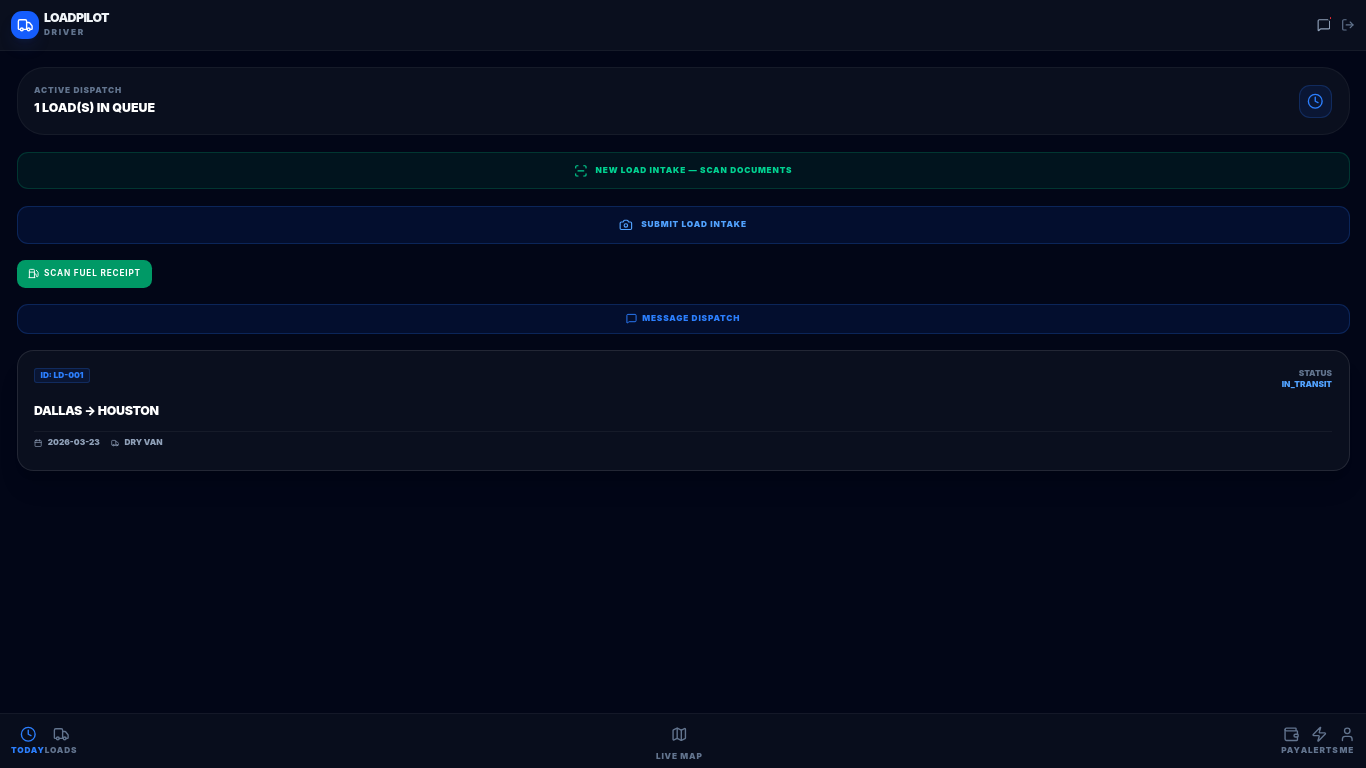
DriverMobileHome - Change Requests (R-P6-10, R-P6-11) › R-P6-11: change request list renders from GET API with status badges
Expected: the text "Alerts" is shown, [1301,745,1338,756]
Click the button "Alerts". click: x=1320, y=741
box: [1301,726,1338,756]
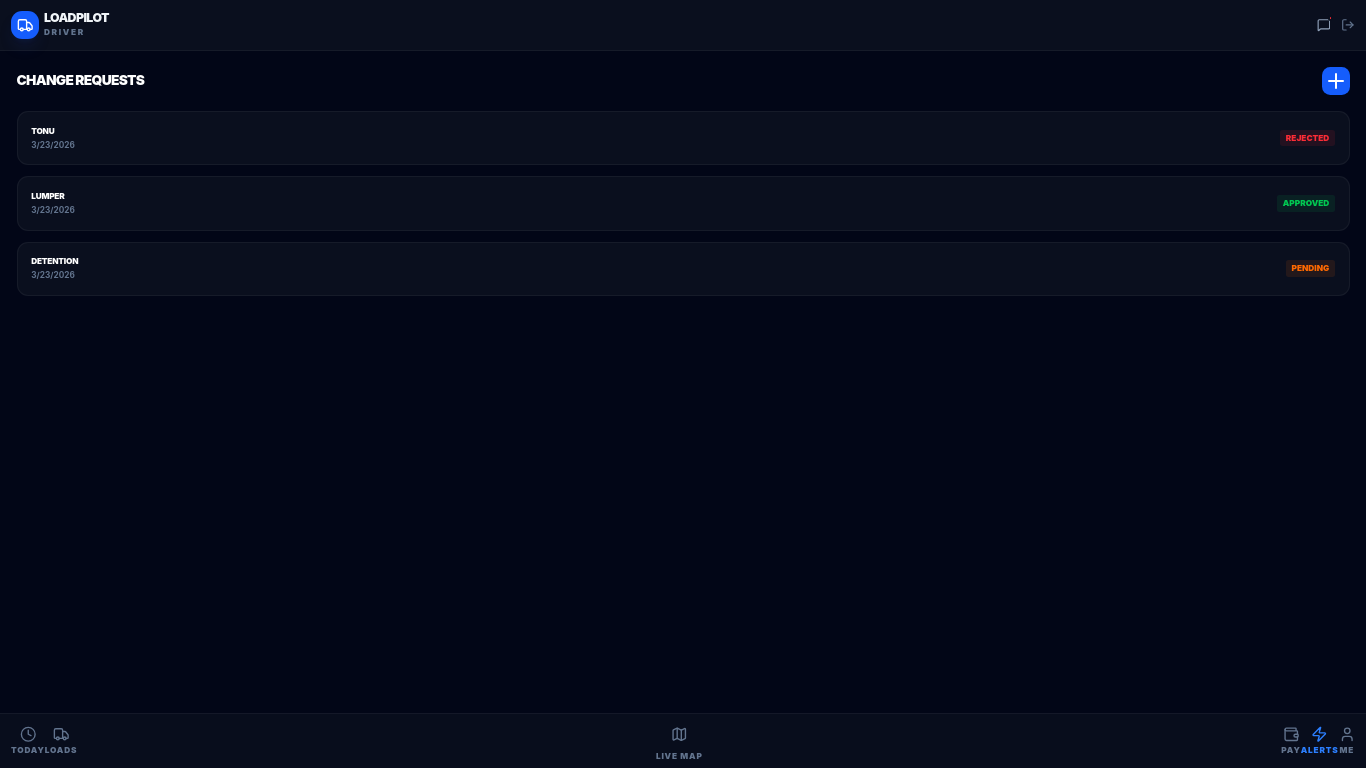
Now the text "DETENTION" is shown, box [31,256,78,267]
Now the text "LUMPER" is shown, box [31,191,65,201]
Now the text "TONU" is shown, box [31,126,55,136]
